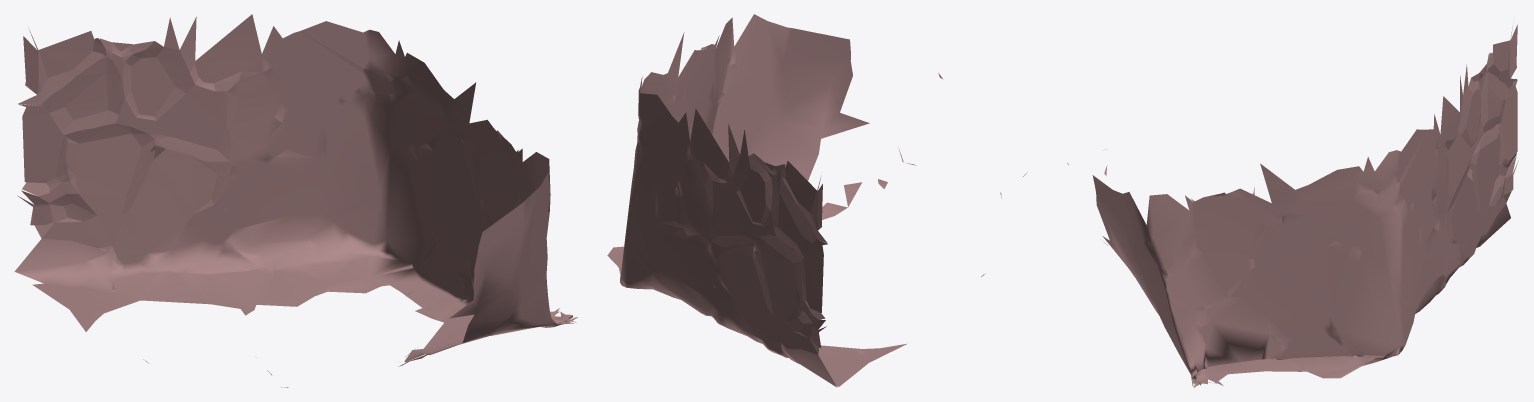
The model's file is canyon.fbx_PolyShape__3__006LODs.fbx.
3 renders of one model, left to right at view 1: azimuth 30°, elevation 25°; view 2: azimuth 150°, elevation 25°; view 3: azimuth 270°, elevation 25°, orthographic. The views are drawn at different scales.
Parts seen in each view (by area): view 1: PolyShape (3).006_LOD0; view 2: PolyShape (3).006_LOD0; view 3: PolyShape (3).006_LOD0.
Part boxes in pixels (x1,y1,x2,y2): PolyShape (3).006_LOD0: (14, 14, 577, 387); PolyShape (3).006_LOD0: (607, 14, 1026, 387); PolyShape (3).006_LOD0: (1067, 24, 1518, 387).
Size of what is drawn, in the model's own units: 5406 by 3265 by 6066.
